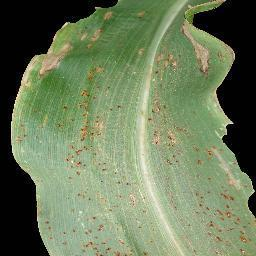Corn_Common_Rust: (69, 63, 125, 256), (211, 80, 256, 208), (179, 0, 239, 80), (189, 208, 256, 256), (151, 46, 178, 147), (19, 51, 68, 90), (29, 175, 51, 256), (125, 178, 147, 256), (51, 18, 104, 50), (5, 90, 28, 158), (178, 126, 201, 154), (165, 177, 181, 214), (192, 187, 210, 207), (56, 102, 68, 132), (57, 226, 69, 256), (160, 154, 181, 168), (131, 7, 150, 20), (100, 8, 116, 21), (192, 159, 205, 167), (138, 44, 146, 57)
